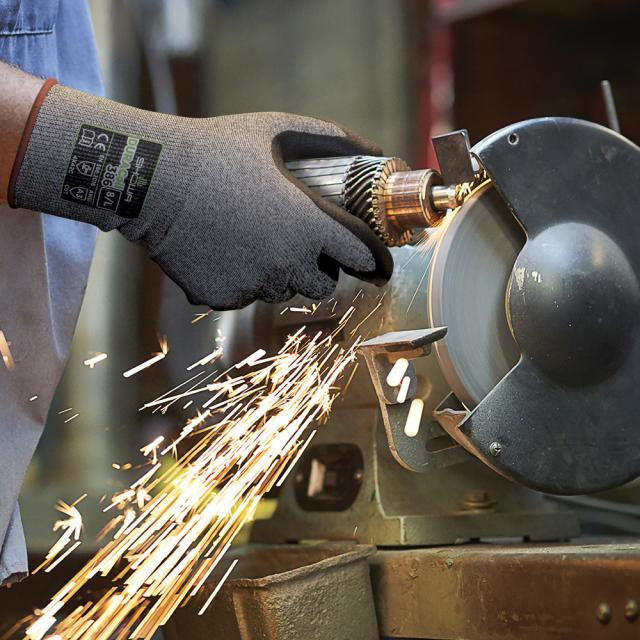gloves: (5, 79, 396, 313)
